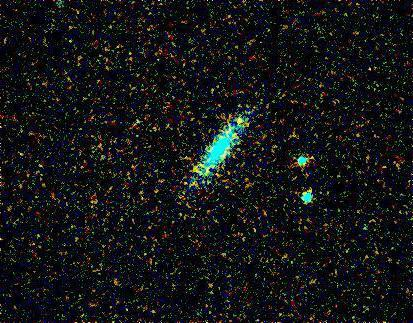star: (226, 105, 256, 135)
